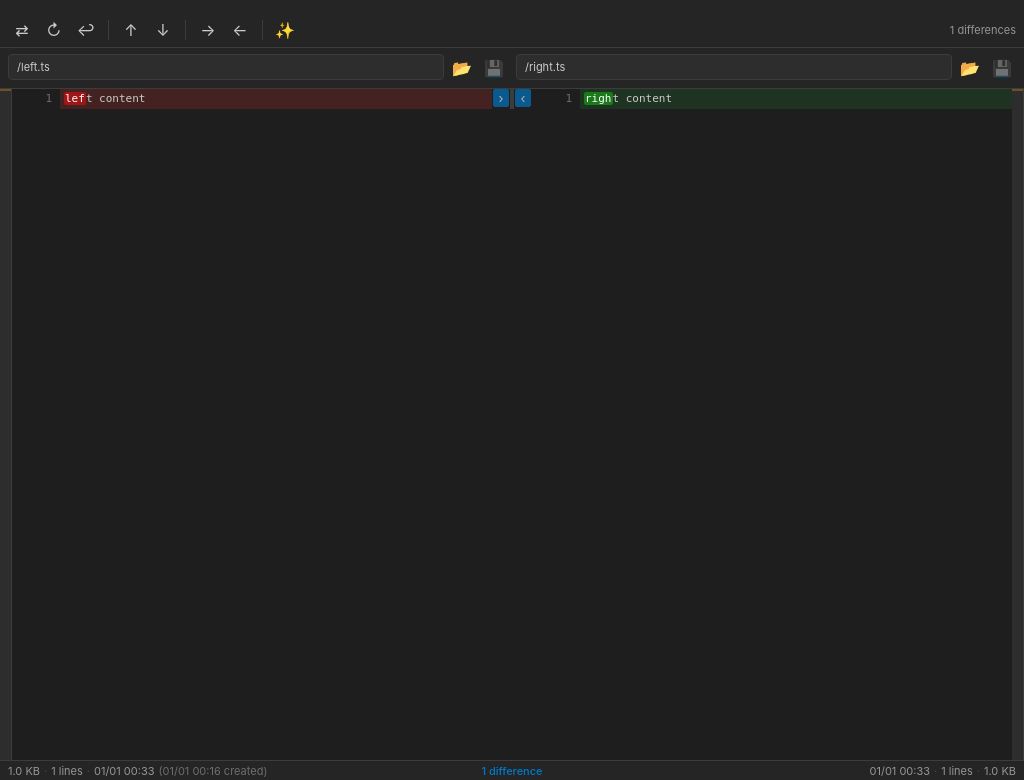
Test case: FileDiffView — swap sides › swap button exchanges left and right path input values
Click the button "⇄" at (22, 30), box [8,16,36,44]
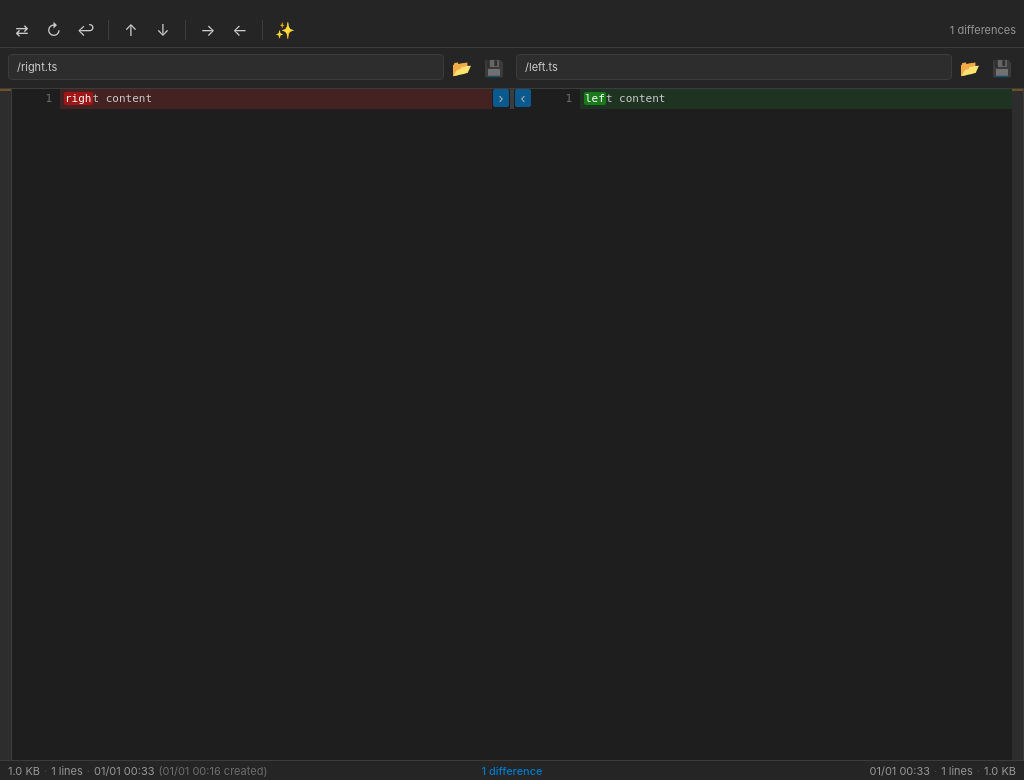
Check: the 1st field with class "fd-path-input" holds "/right.ts", box [8,54,444,80]
Check: the 2nd field with class "fd-path-input" holds "/left.ts", box [516,54,952,80]
